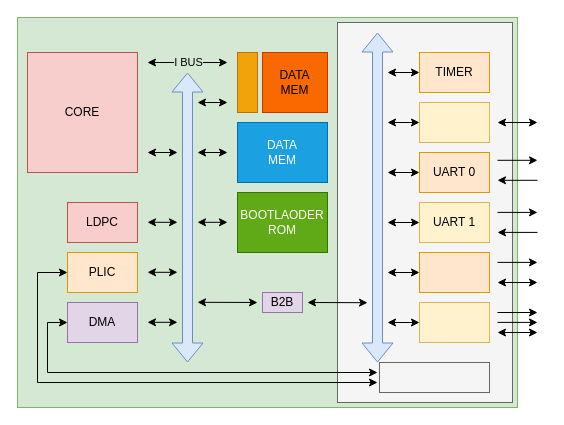
The diagram is 564 pixels wide and 425 high, and some of its shapes have lost their labels. Here are the shapes that lost their labels. From the top down, the box of each, then its label:
(236, 52, 258, 112): INTF
(418, 102, 490, 142): GPIO
(418, 252, 490, 292): I2C
(418, 302, 490, 342): QSPI
(378, 362, 490, 392): PERIPHERALS
